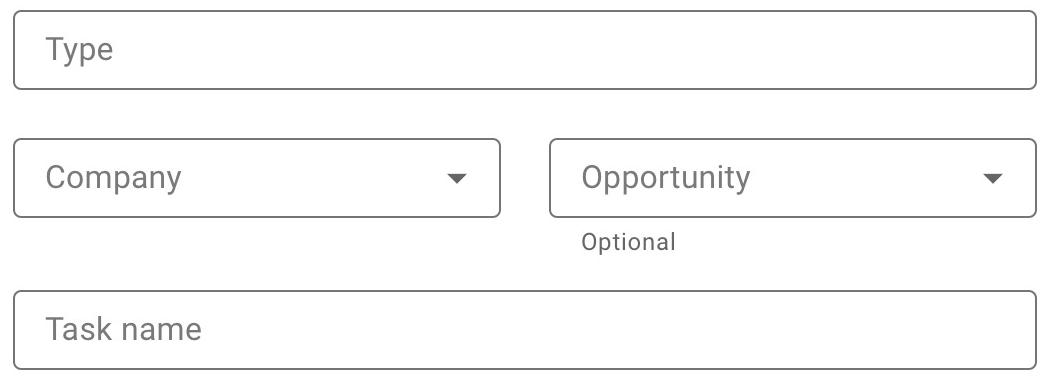field: (8, 8, 1039, 94), (9, 288, 1041, 372), (10, 134, 504, 223), (546, 135, 1041, 223)
